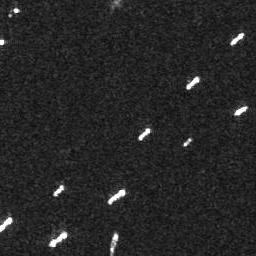ship: (49, 230, 68, 250), (107, 188, 126, 205), (1, 214, 13, 236), (108, 233, 119, 256), (136, 126, 151, 141), (185, 75, 200, 90), (230, 31, 244, 45), (53, 183, 65, 198), (234, 105, 248, 116), (184, 138, 191, 146)
